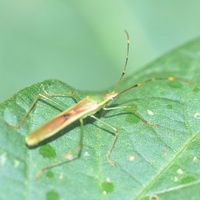insect: (0, 38, 199, 199)
